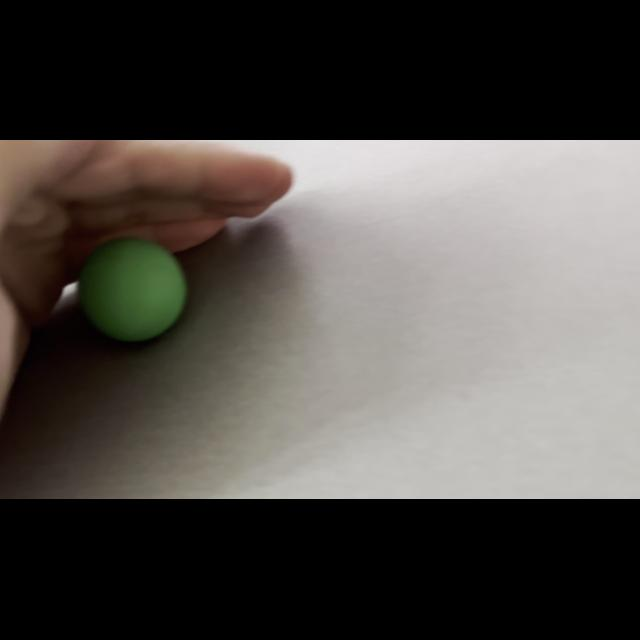objects: (71, 225, 195, 352)
